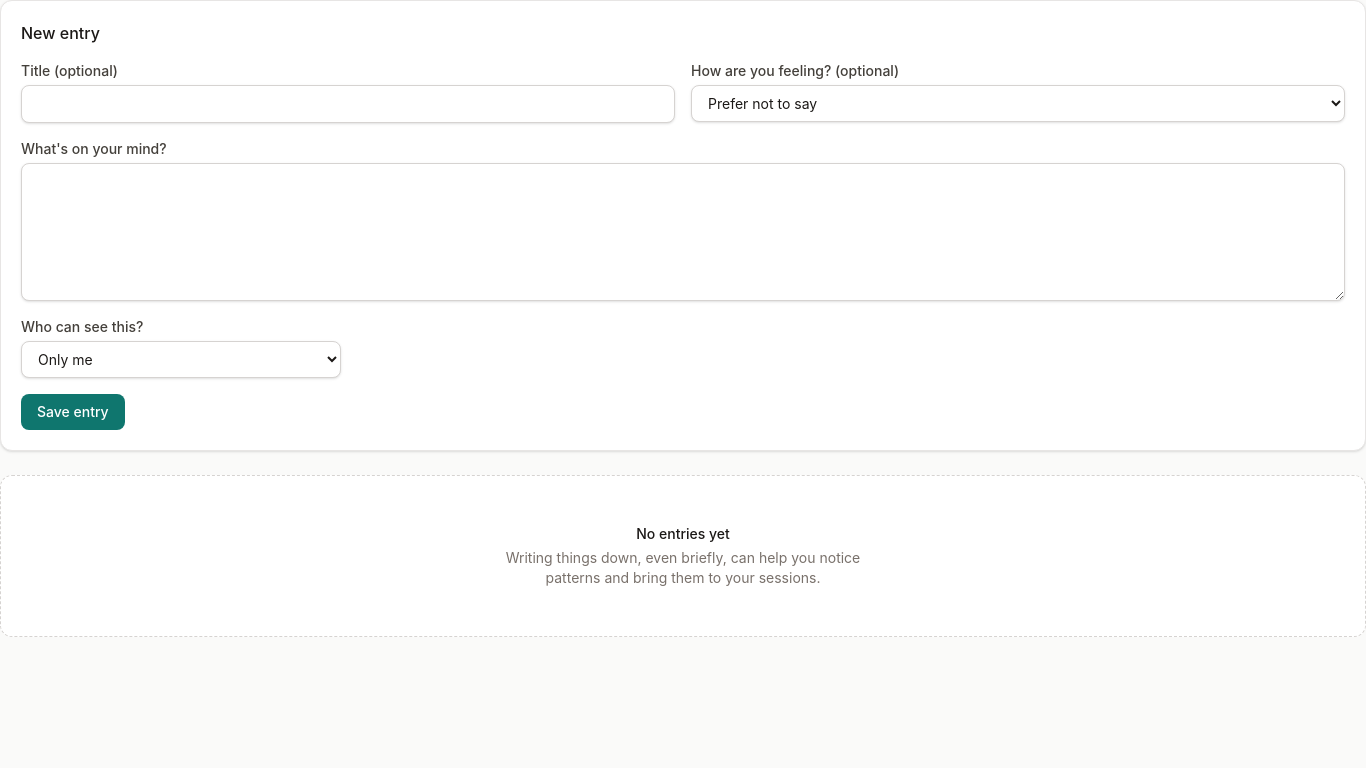
Scenario: JournalPage › saves a private entry by default, then lists it
Step 1. Type "Slept badly" into the text box labelled "What's on your mind?" → (683, 232), box [21,163,1345,301]
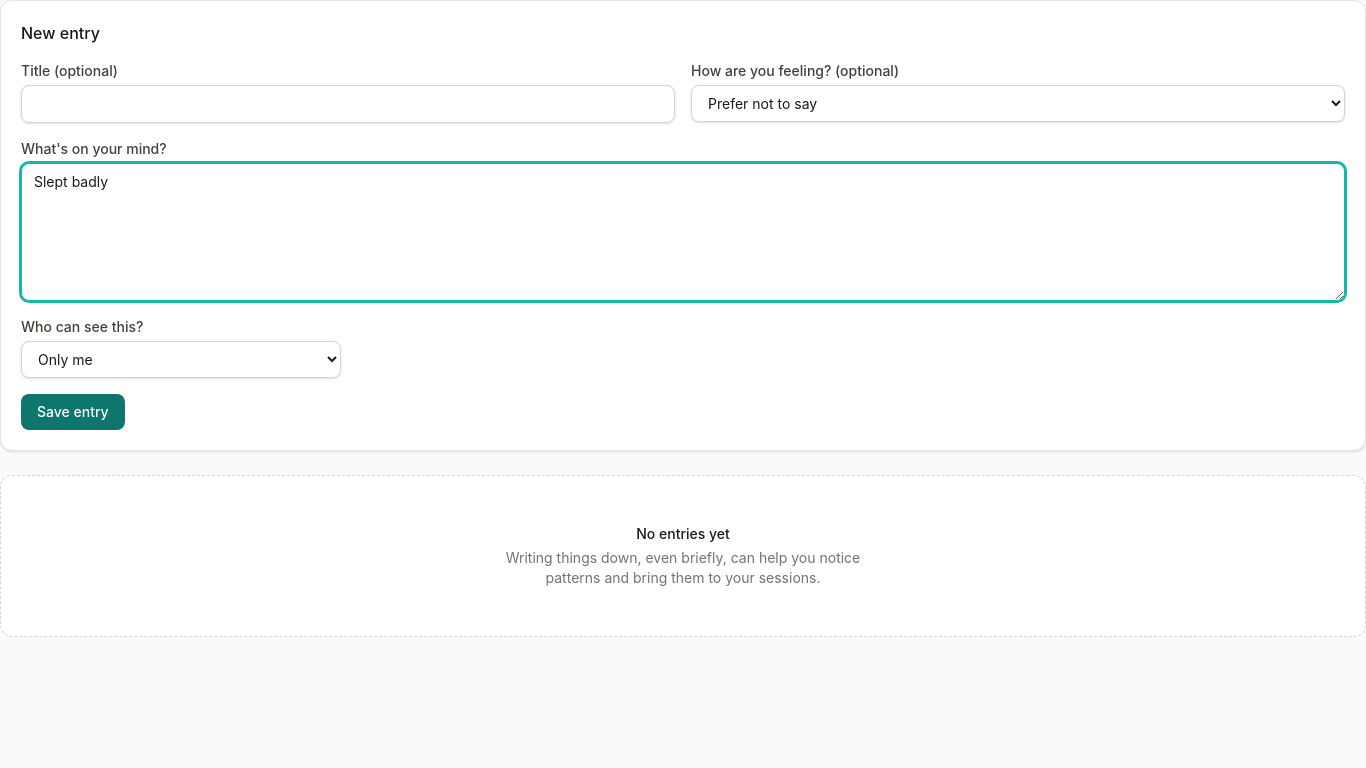
Step 2. Select "Low" in the dropdown labelled "How are you feeling? (optional)" → (1018, 104), box [691,85,1345,122]
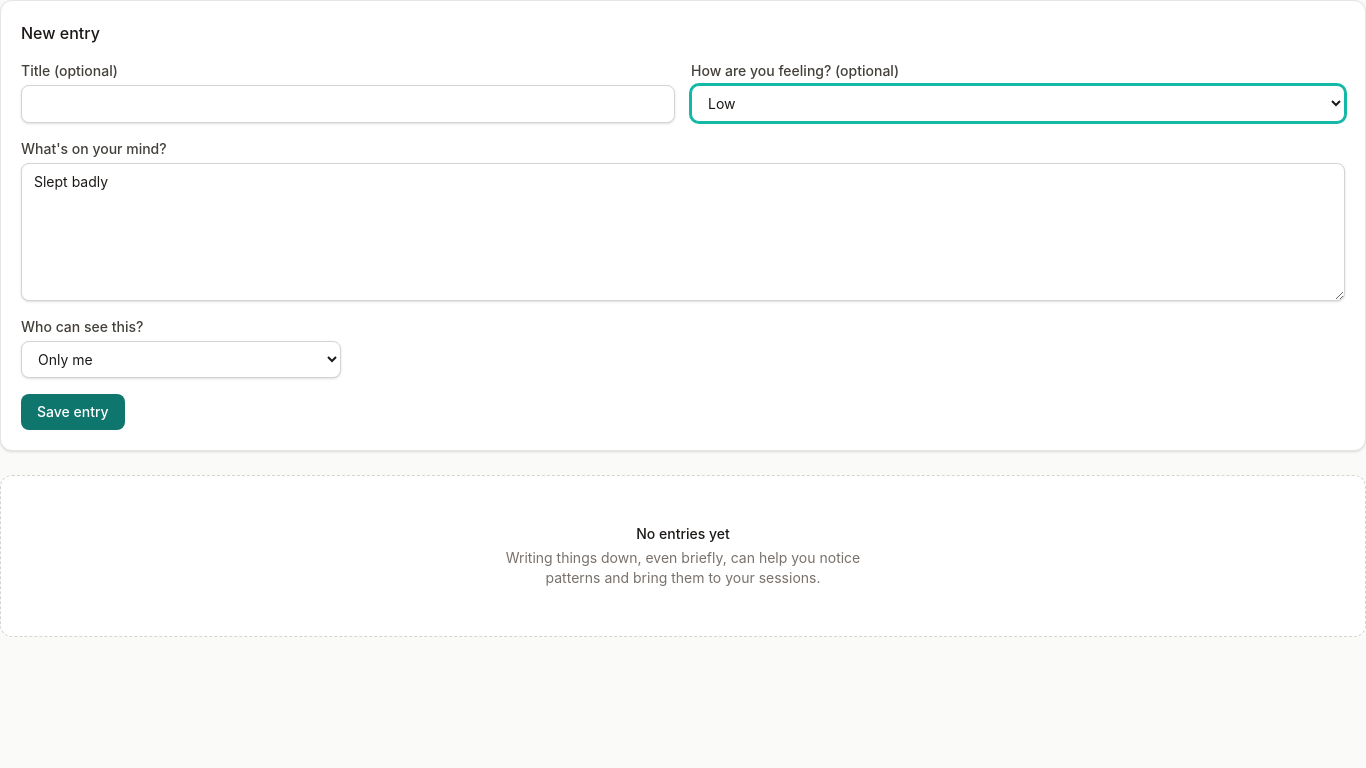
Step 3. Click the button "Save entry" → (73, 412), box [21,394,125,430]
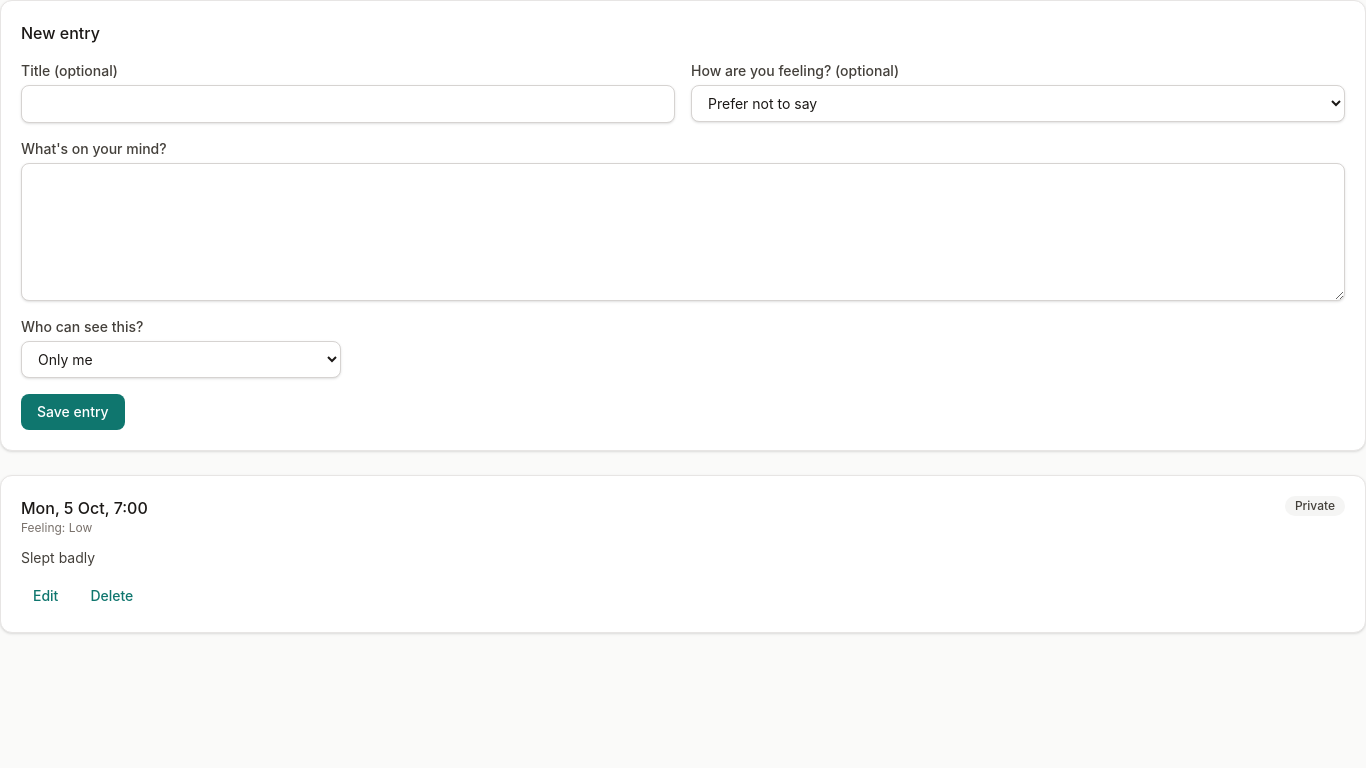
Now the text "Private" is shown, box [1285,496,1345,516]
Now the text "Feeling: Low" is shown, box [21,520,92,535]
